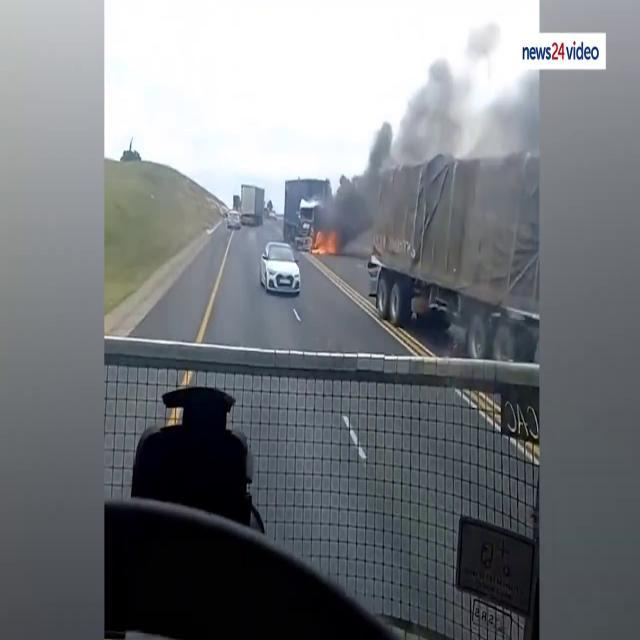Fire: (309, 226, 336, 257)
Smoke: (333, 8, 539, 252)
